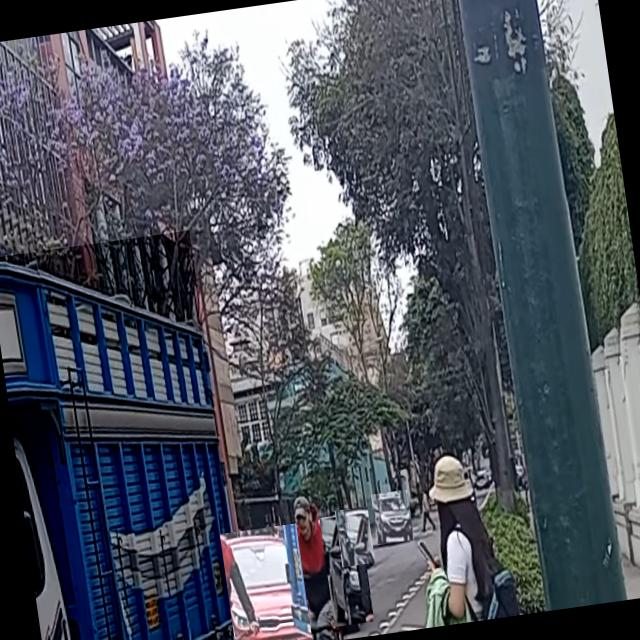bicycle: (280, 610, 348, 640)
car: (220, 523, 313, 640), (320, 513, 375, 627), (334, 506, 376, 567), (370, 490, 414, 546)
truck: (0, 230, 248, 640)
